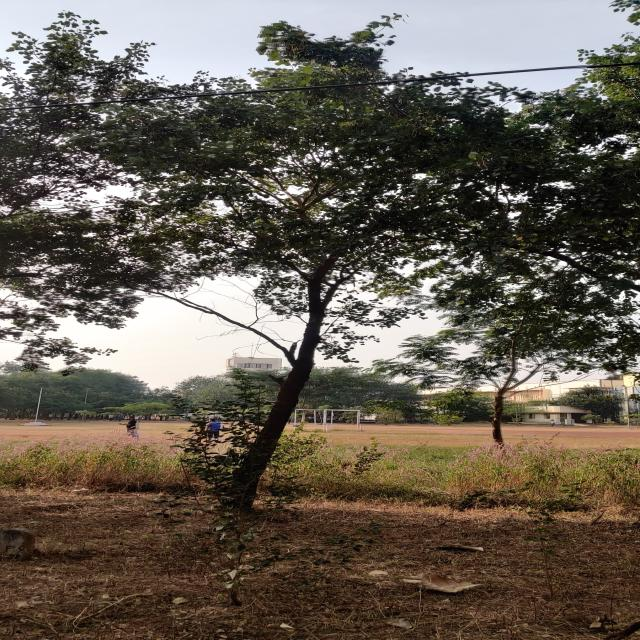Devakanchan tree: (79, 82, 602, 391)
